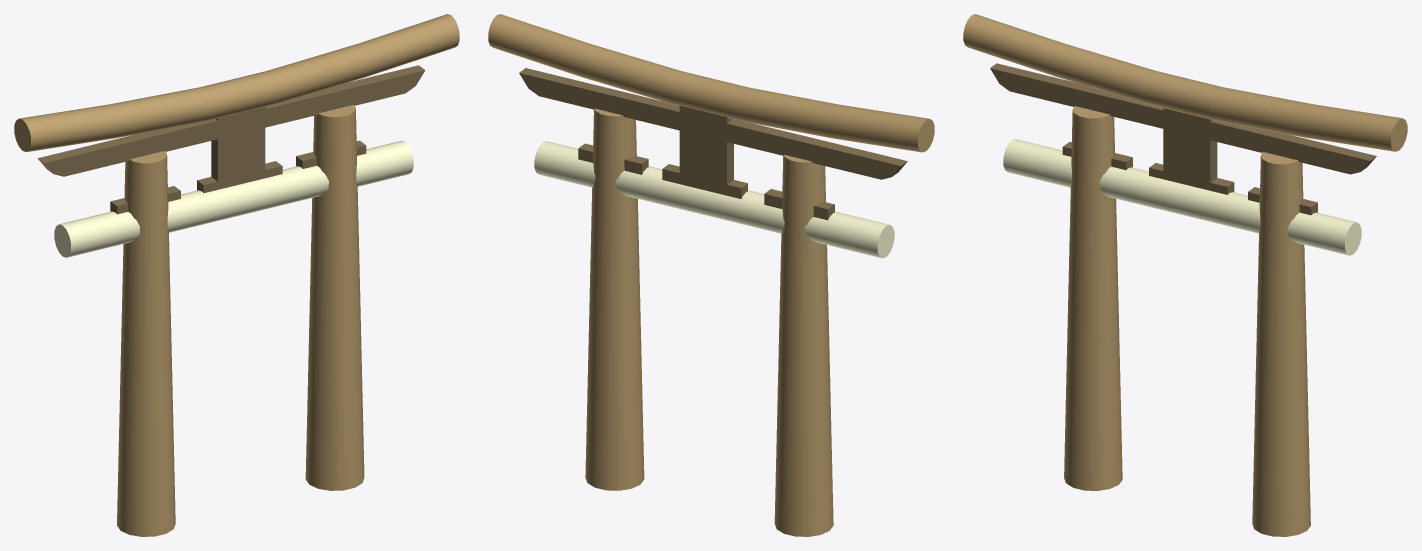
File: JapaneseArchway1.fbx
3 views of the same model, side by side, from view 1: azimuth 30°, elevation 25°; view 2: azimuth 150°, elevation 25°; view 3: azimuth 330°, elevation 25° (orthographic).
Visible parts, largest first — view 1: JapaneseArchway; view 2: JapaneseArchway; view 3: JapaneseArchway.
Part boxes in pixels (x1,y1,x2,y2): JapaneseArchway: (14, 14, 459, 536); JapaneseArchway: (488, 14, 934, 536); JapaneseArchway: (963, 14, 1407, 536).
Size of the model in its own units: 475 by 460 by 55.19.
